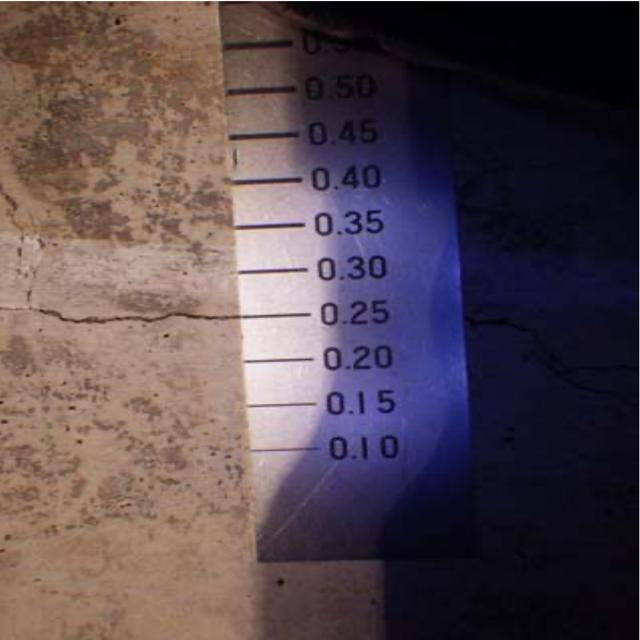crack: (3, 190, 251, 357)
